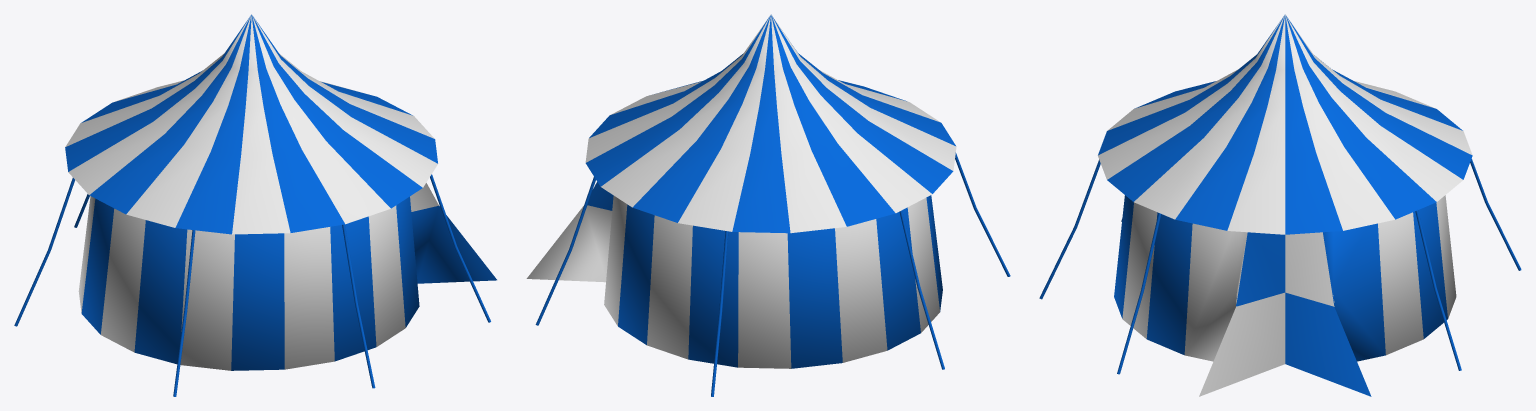
Rendered from blue_tent.fbx.
3 renders of one model, left to right at view 1: azimuth 30°, elevation 25°; view 2: azimuth 150°, elevation 25°; view 3: azimuth 270°, elevation 25°, orthographic.
Parts seen in each view (by area): view 1: blue_tent; view 2: blue_tent; view 3: blue_tent.
Part boxes in pixels (x1,y1,x2,y2): blue_tent: (14, 14, 496, 396); blue_tent: (526, 14, 1010, 396); blue_tent: (1039, 14, 1521, 396).
Bounding box in the file's own units: 15.1 × 10.06 × 15.43.
